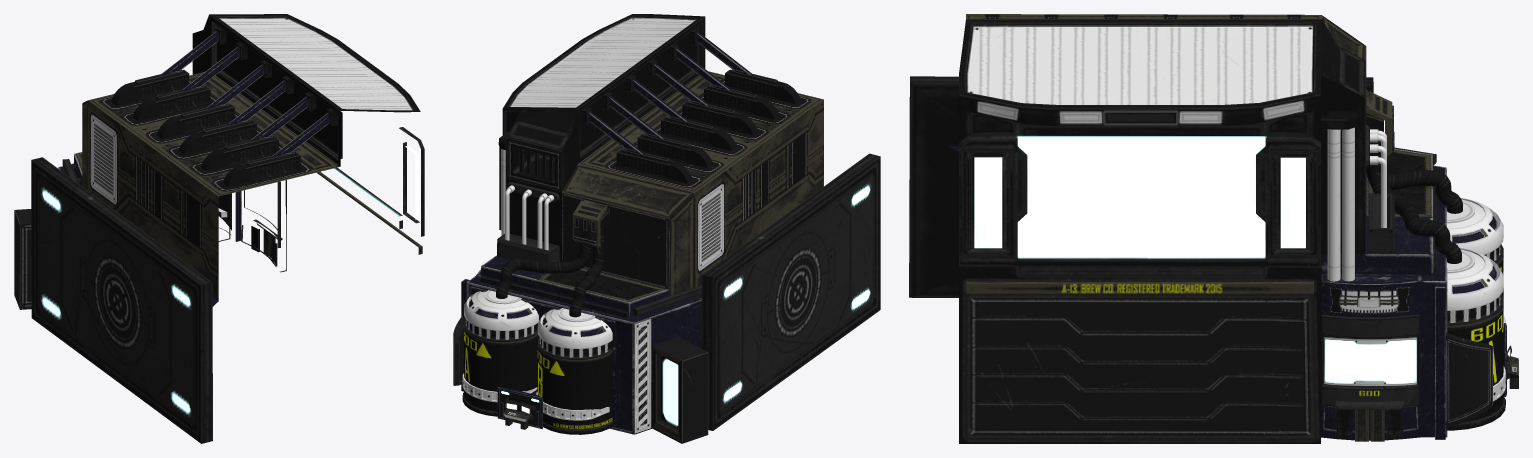
The model's file is industrial_building.glb.
3 renders of one model, left to right at view 1: azimuth 30°, elevation 25°; view 2: azimuth 150°, elevation 25°; view 3: azimuth 270°, elevation 25°, orthographic. The views are drawn at different scales.
Parts seen in each view (by area): view 1: building_5; view 2: building_5; view 3: building_5.
Part boxes in pixels (<box>): building_5: <box>14,14,424,443</box>; building_5: <box>453,14,880,443</box>; building_5: <box>909,14,1518,443</box>.
Size of the model in its own units: 54.78 by 57.36 by 83.93.
1 material, 1 textured.
